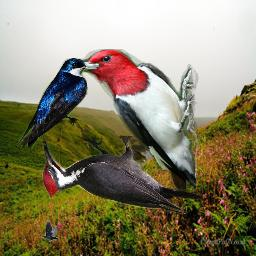Crow: (41, 220, 59, 242)
Swallow: (18, 58, 89, 149)
Woodpecker: (65, 49, 203, 195), (42, 136, 203, 214)
